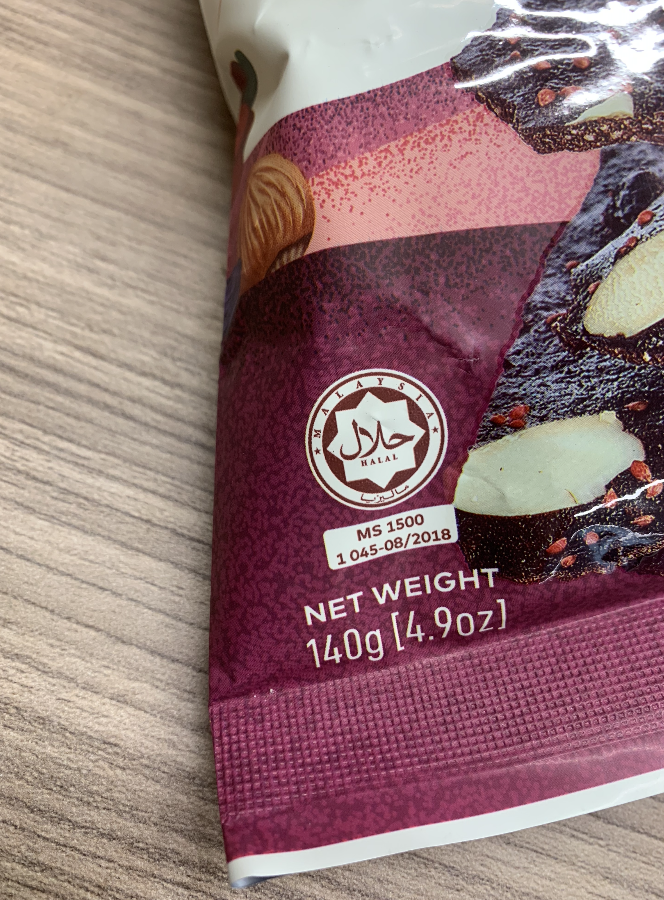halal: (335, 391, 420, 477)
